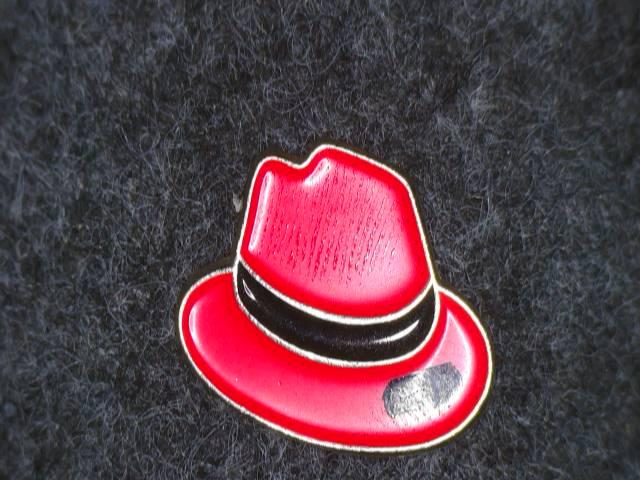Red-Hat: (155, 106, 517, 472)
Scratch: (369, 356, 474, 431)
